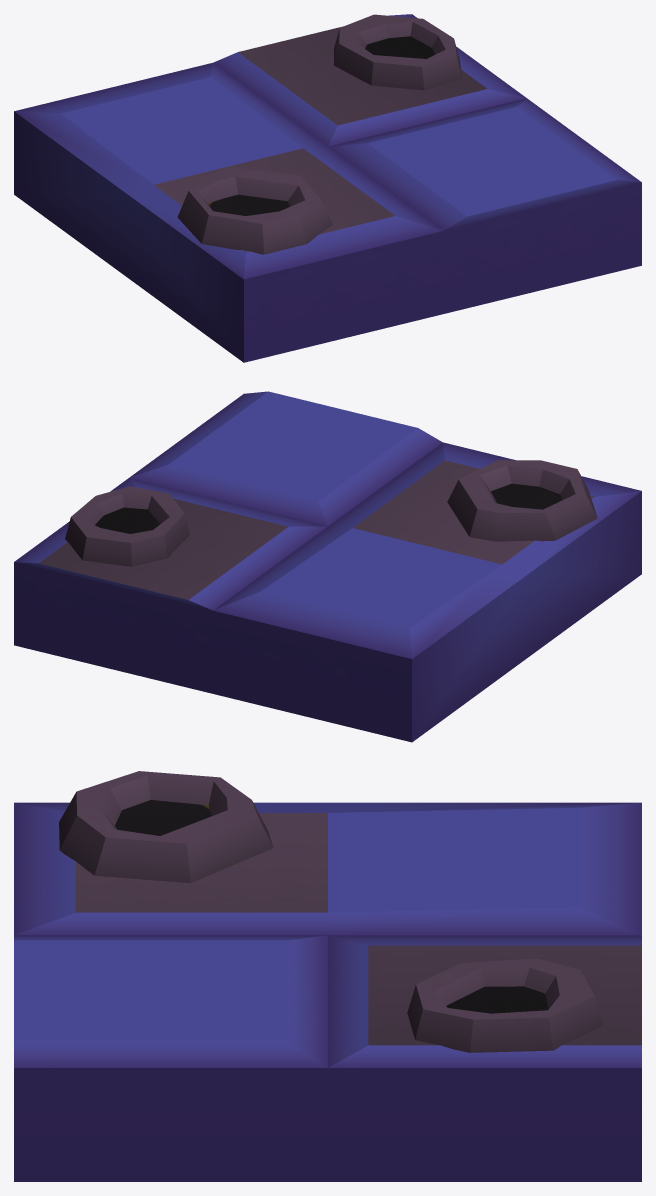
Rendered from tileBase4_mesh.fbx.
3 views of the same model, one above another, from view 1: azimuth 30°, elevation 25°; view 2: azimuth 150°, elevation 25°; view 3: azimuth 270°, elevation 25° (orthographic). The views are drawn at different scales.
Visible parts, largest first — view 1: tileBase2_mesh, polySurface1; view 2: tileBase2_mesh, polySurface1; view 3: tileBase2_mesh, polySurface1.
Part boxes in pixels (x1,y1,x2,y2): tileBase2_mesh: (14,14,641,362); polySurface1: (177,14,462,254); tileBase2_mesh: (14,391,641,742); polySurface1: (65,460,597,566); tileBase2_mesh: (14,802,641,1181); polySurface1: (59,771,603,1052).
Bounding box in the file's own units: 100 × 26.84 × 100.
